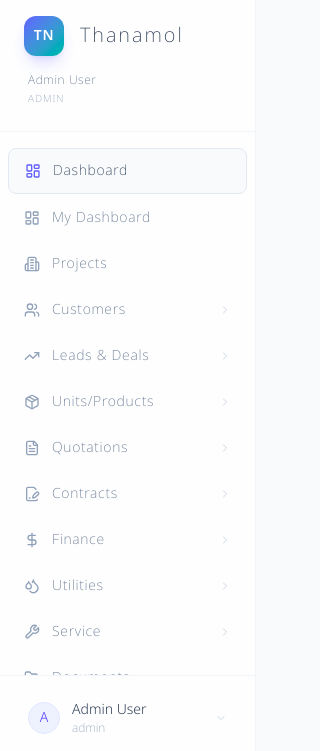
Scenario: Sidebar › collapses a submenu when its parent button is clicked again
The width and height of the screenshot is (320, 751).
What coordinates should you click on to do the following:
click the button "Customers"
I would click on:
 (128, 310)
Its box is x1=8 y1=288 x2=247 y2=332.
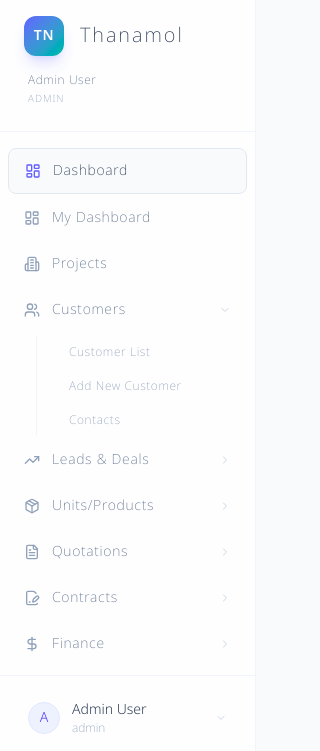
Now the text "Customer List" is shown, box x1=69 y1=343 x2=150 y2=361
What coordinates should you click on to do the following:
click the button "Customers"
I would click on:
 (128, 310)
Its box is x1=8 y1=288 x2=247 y2=332.
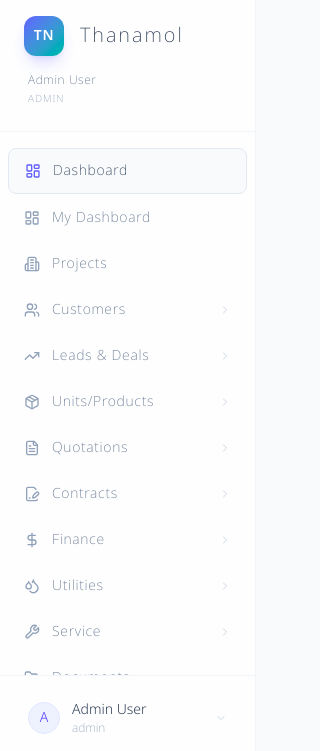
Now the link "Customer List" is gone
